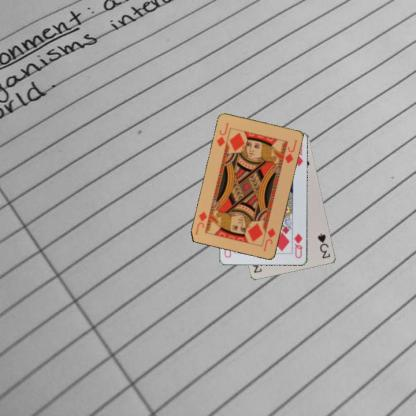3s: (315, 231, 332, 260)
Jd: (214, 120, 230, 148), (260, 225, 276, 252)
Qd: (292, 231, 304, 260)
